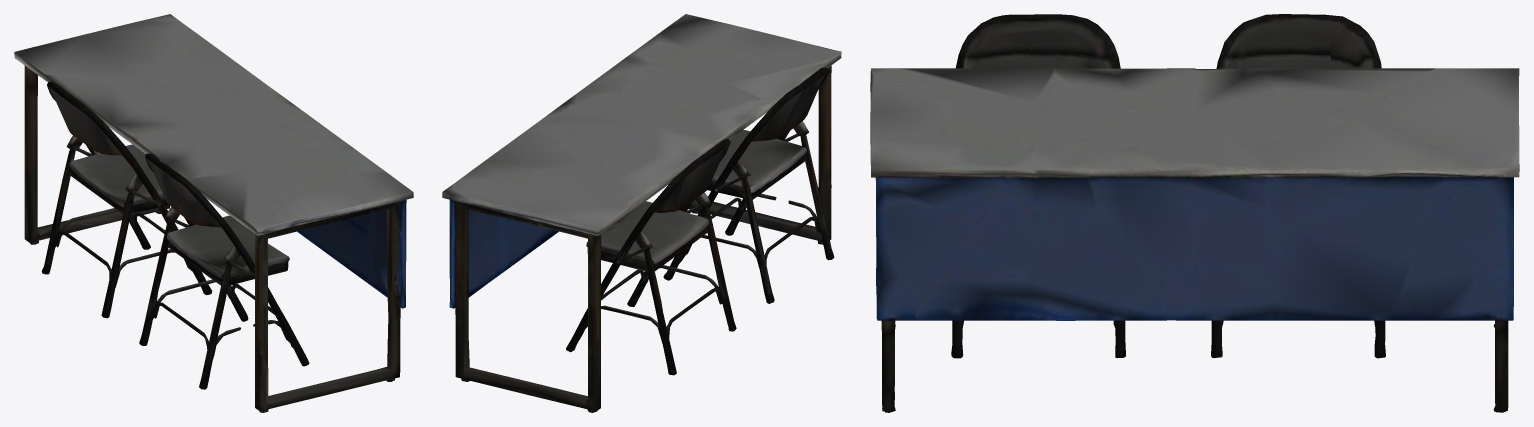
Rendered from mesa_anotacion.glb.
3 renders of one model, left to right at view 1: azimuth 30°, elevation 25°; view 2: azimuth 150°, elevation 25°; view 3: azimuth 270°, elevation 25°, orthographic. The views are drawn at different scales.
Visible parts, largest first — view 1: tripo_node_08570dbd-61ea-4921-a69b-de32ac82ef59; view 2: tripo_node_08570dbd-61ea-4921-a69b-de32ac82ef59; view 3: tripo_node_08570dbd-61ea-4921-a69b-de32ac82ef59.
Boxes of the visible parts, box(x1,y1,x2,y2) form: tripo_node_08570dbd-61ea-4921-a69b-de32ac82ef59: box(14, 14, 413, 412); tripo_node_08570dbd-61ea-4921-a69b-de32ac82ef59: box(442, 14, 841, 412); tripo_node_08570dbd-61ea-4921-a69b-de32ac82ef59: box(870, 14, 1519, 412).
Size of the model in its own units: 0.6883 by 0.7497 by 1.54.
1 material, 1 textured.
